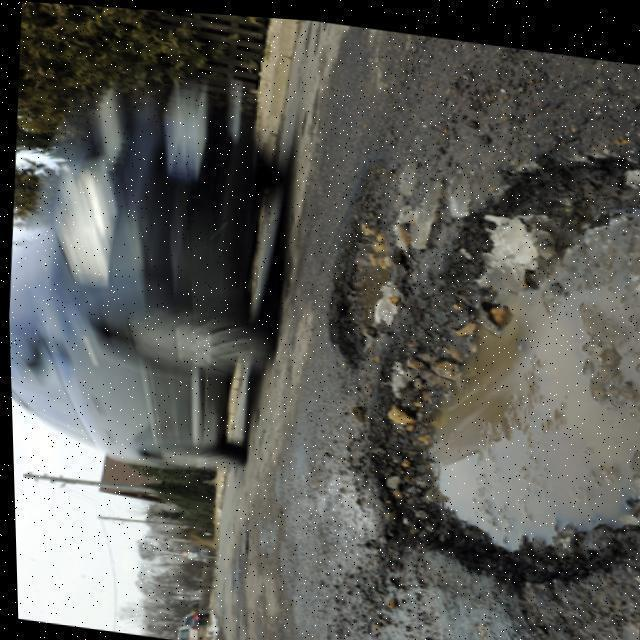Pothole: (364, 140, 640, 575), (316, 172, 416, 351)
